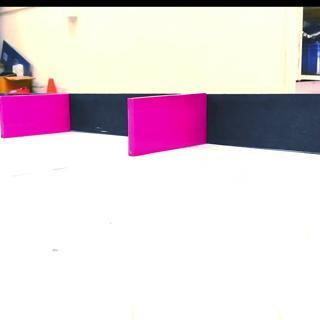xparking: (132, 96, 207, 154), (1, 95, 69, 133)
